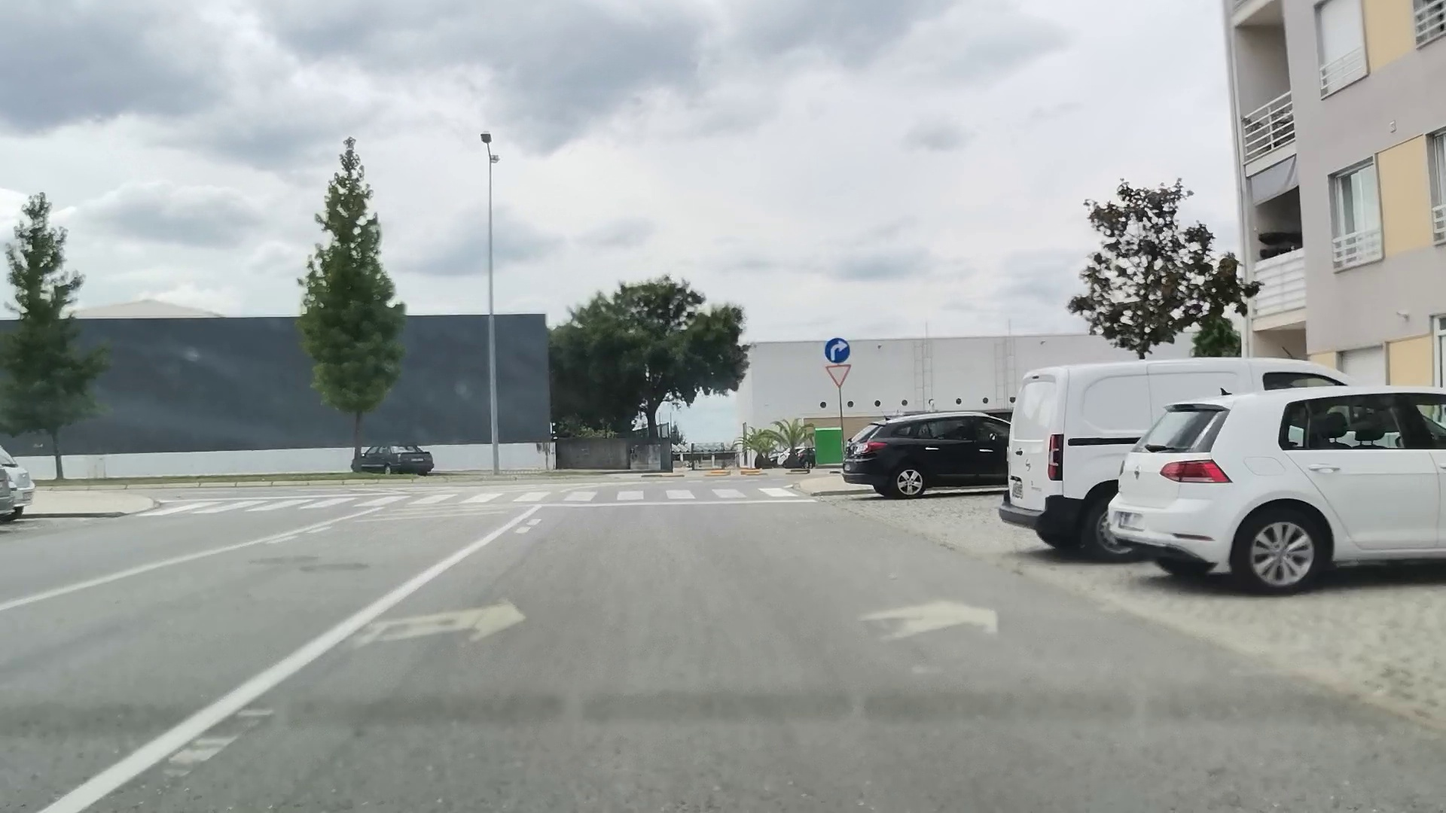Stairs: (141, 483, 803, 522)
